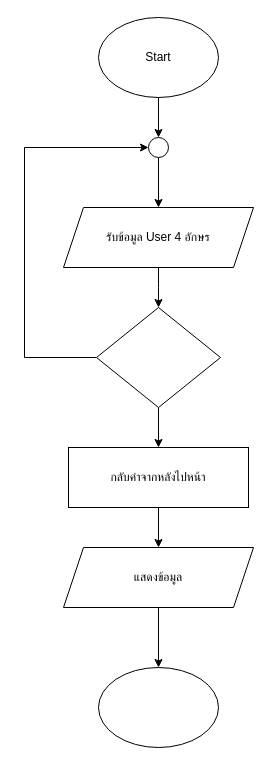
Some shapes in this 271 by 765 pixel diagram are drawn without their labels. The shapes that lost their labels are listed below. From the top down, each one's box as (x1, y1, x2, y2) in pixels, then its label:
(96, 306, 220, 408): ลูป 0 ถึง 4 รอบ
(98, 666, 218, 748): End
